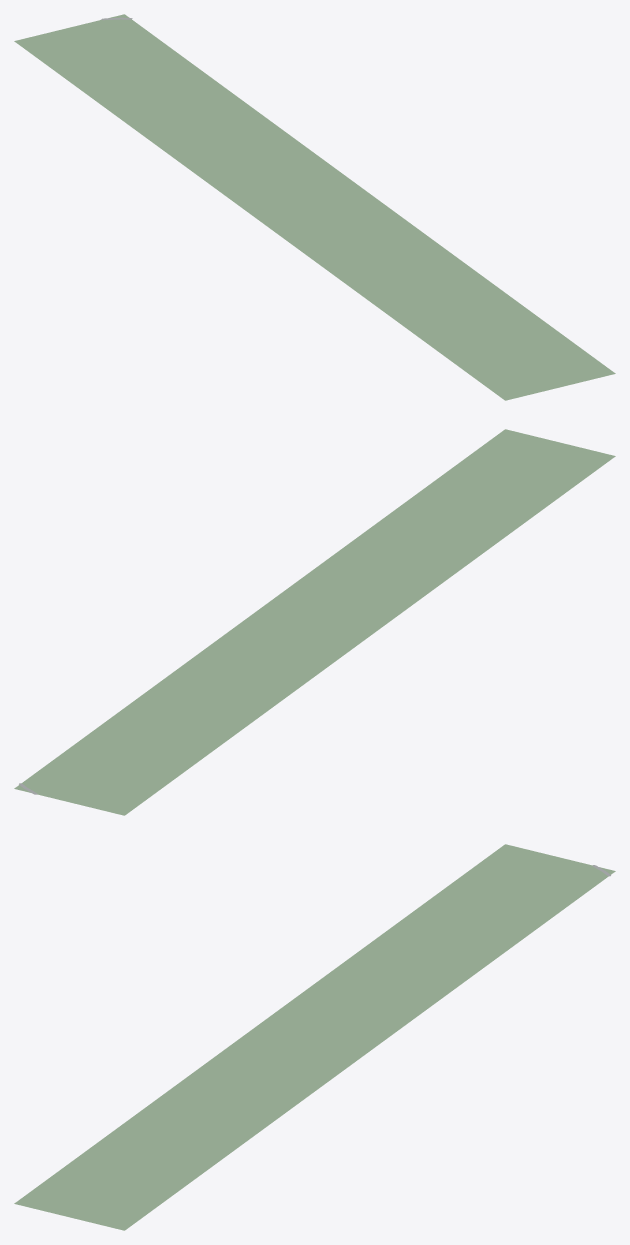
File: -2_3-known-coarse.glb
3 views of the same model, one above another, from view 1: azimuth 30°, elevation 25°; view 2: azimuth 150°, elevation 25°; view 3: azimuth 330°, elevation 25° (orthographic).
Size of the model in its own units: 97.48 by 0.1 by 741.
